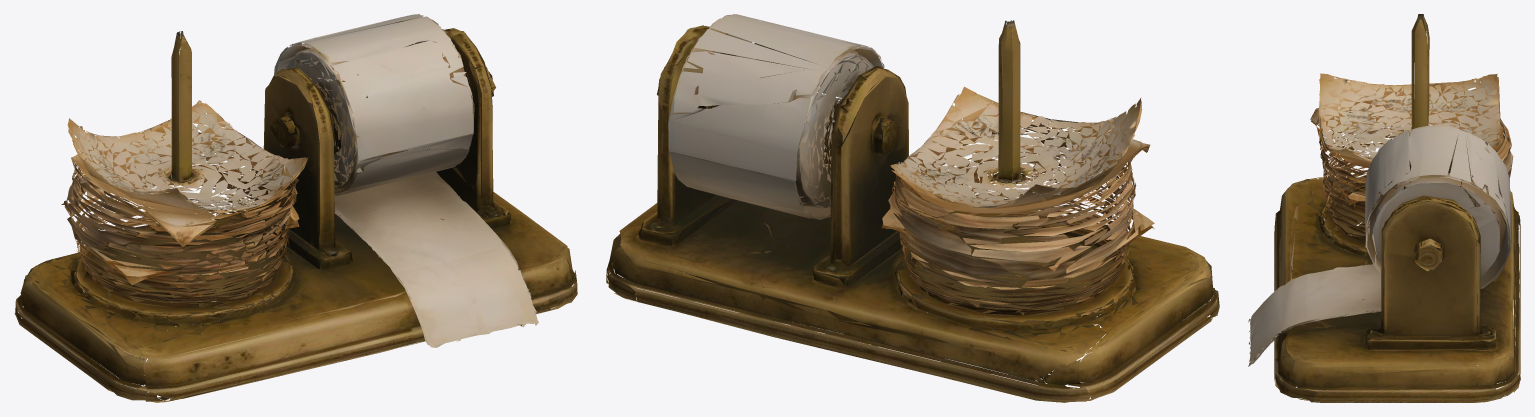
The model's file is ch03_receipt_spike.glb.
3 views of the same model, side by side, from view 1: azimuth 30°, elevation 25°; view 2: azimuth 150°, elevation 25°; view 3: azimuth 270°, elevation 25° (orthographic). The views are drawn at different scales.
Visible parts, largest first — view 1: material; view 2: material; view 3: material.
Boxes of the visible parts, left/top/right/bottom form: material: left=14, top=14, right=577, bottom=402; material: left=606, top=14, right=1219, bottom=402; material: left=1248, top=14, right=1520, bottom=402.
Bounding box in the file's own units: 0.9694 × 0.5756 × 0.5734.
Materials: 1 (1 with a texture image).
